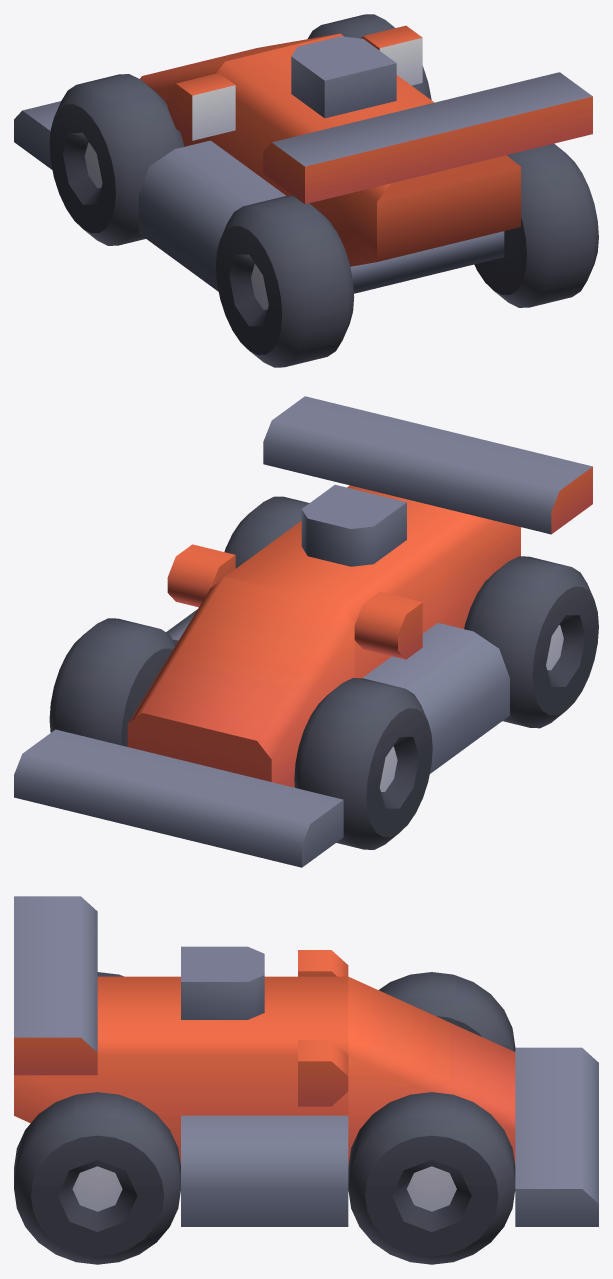
The model's file is speedster.glb.
The picture shows the model from 3 angles, top to bottom: view 1: azimuth 30°, elevation 25°; view 2: azimuth 150°, elevation 25°; view 3: azimuth 270°, elevation 25°; orthographic projection.
Visible parts, largest first — view 1: vehicle-speedster; view 2: vehicle-speedster; view 3: vehicle-speedster.
Part boxes in pixels (x1,y1,x2,y2): vehicle-speedster: [14, 14, 598, 367]; vehicle-speedster: [14, 396, 598, 867]; vehicle-speedster: [14, 896, 598, 1264].
Bounding box in the file's own units: 0.55 × 0.3749 × 0.875.
Materials: 1 (1 with a texture image).
